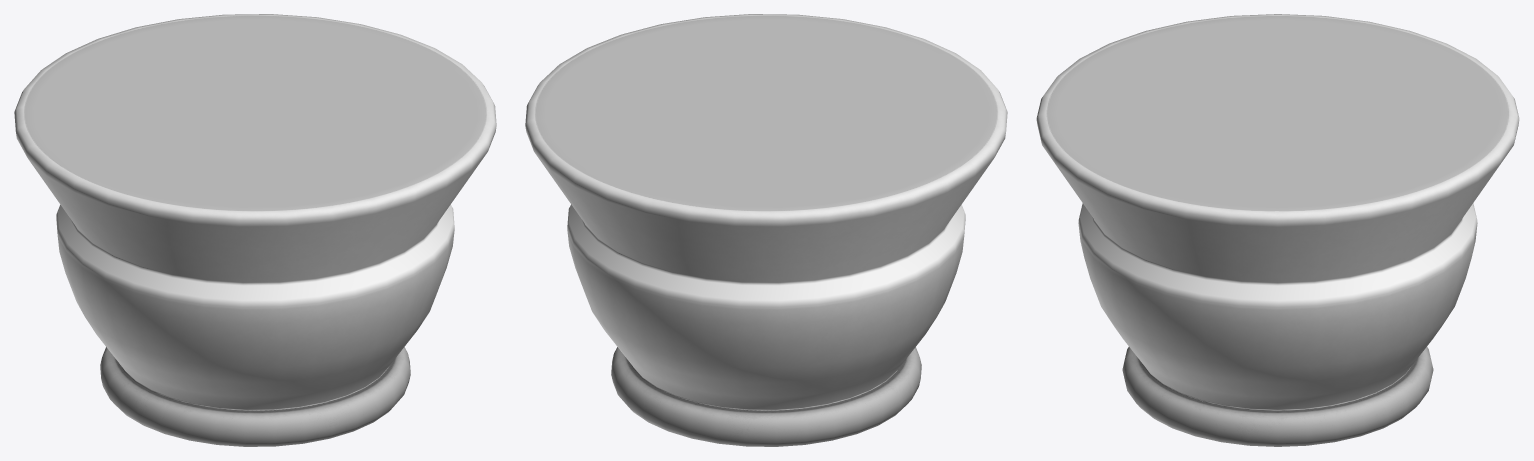
Rendered from CoffeeTable01.FBX.
3 views of the same model, side by side, from view 1: azimuth 30°, elevation 25°; view 2: azimuth 150°, elevation 25°; view 3: azimuth 270°, elevation 25° (orthographic).
Parts seen in each view (by area): view 1: CoffeeTable01; view 2: CoffeeTable01; view 3: CoffeeTable01.
Boxes of the visible parts, x1=… form: CoffeeTable01: x1=14, y1=14, x2=496, y2=446; CoffeeTable01: x1=525, y1=14, x2=1007, y2=446; CoffeeTable01: x1=1036, y1=14, x2=1519, y2=446.
Size of what is drawn, in the model's own units: 0.9631 by 0.6 by 0.9631.
